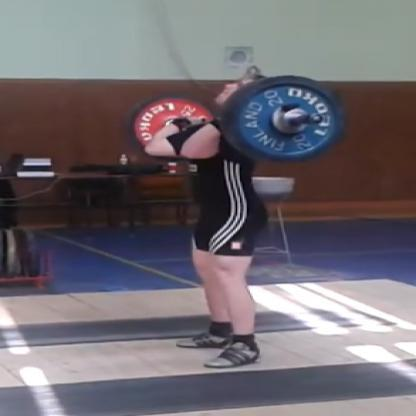Barbell: (304, 112, 328, 129)
